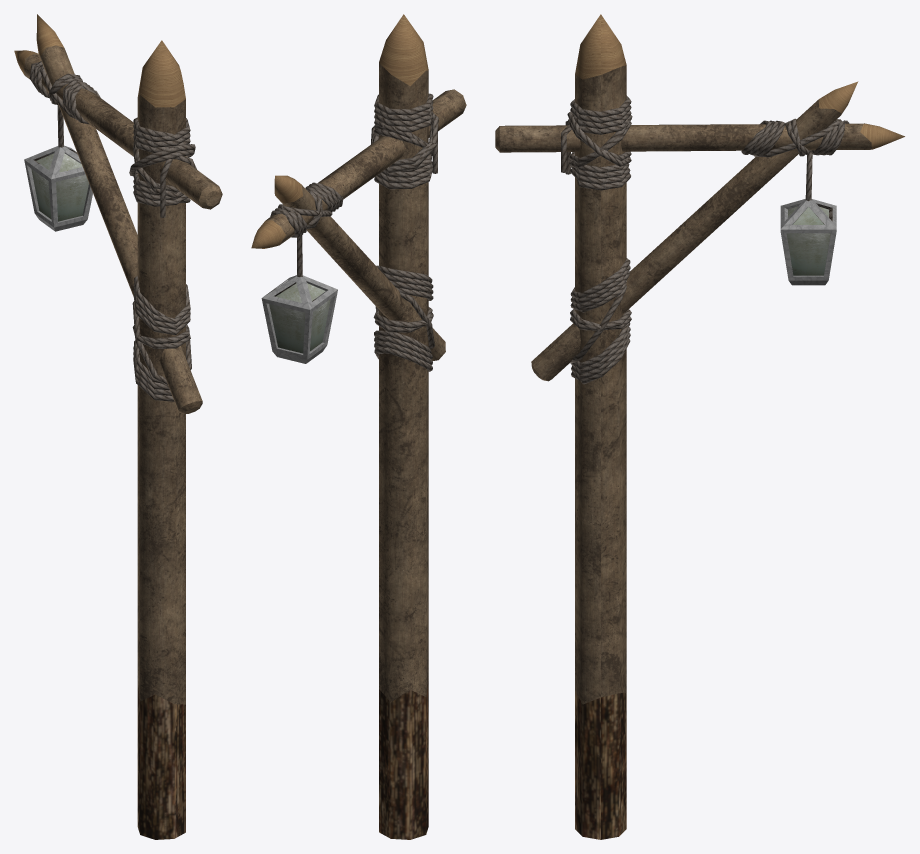
Rendered from StreetLight.fbx.
3 views of the same model, side by side, from view 1: azimuth 30°, elevation 25°; view 2: azimuth 150°, elevation 25°; view 3: azimuth 270°, elevation 25° (orthographic). The views are drawn at different scales.
Visible parts, largest first — view 1: StreetLight; view 2: StreetLight; view 3: StreetLight.
Part boxes in pixels (x1,y1,x2,y2): StreetLight: (14,14,222,839); StreetLight: (251,14,466,839); StreetLight: (495,14,904,839).
Size of the model in its own units: 17.42 by 211 by 96.29.
